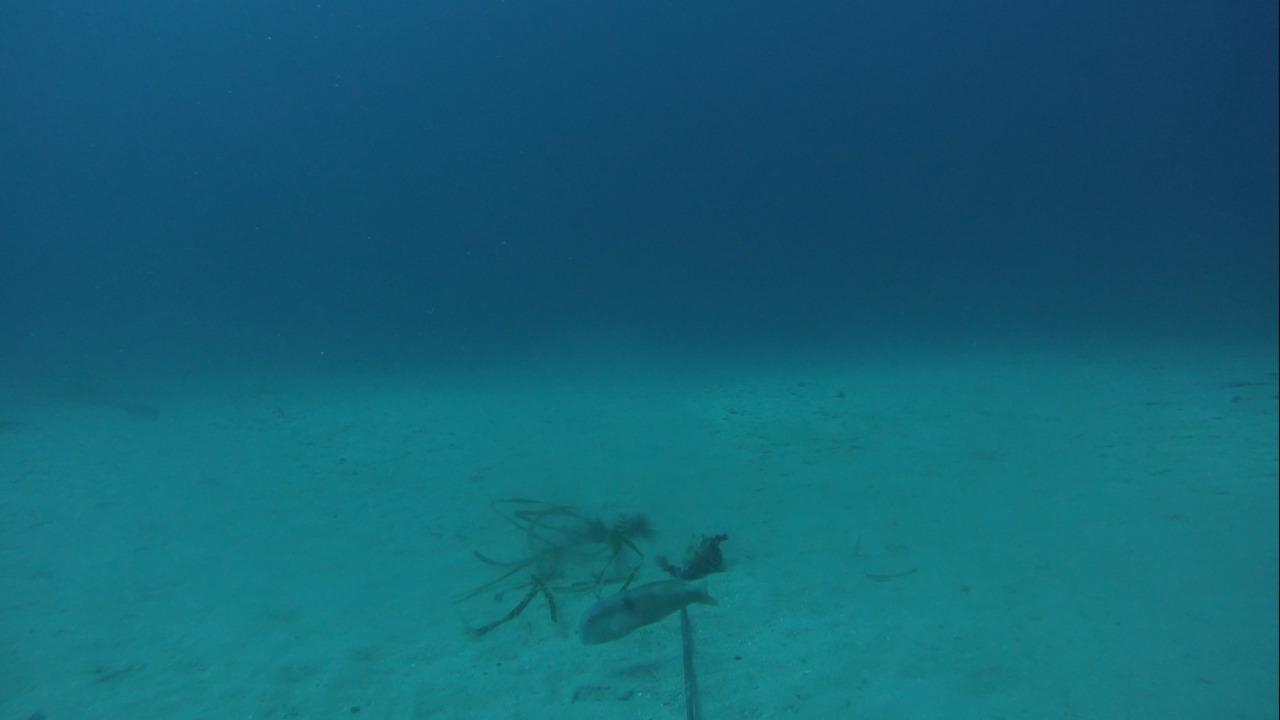raor: (576, 575, 717, 646)
